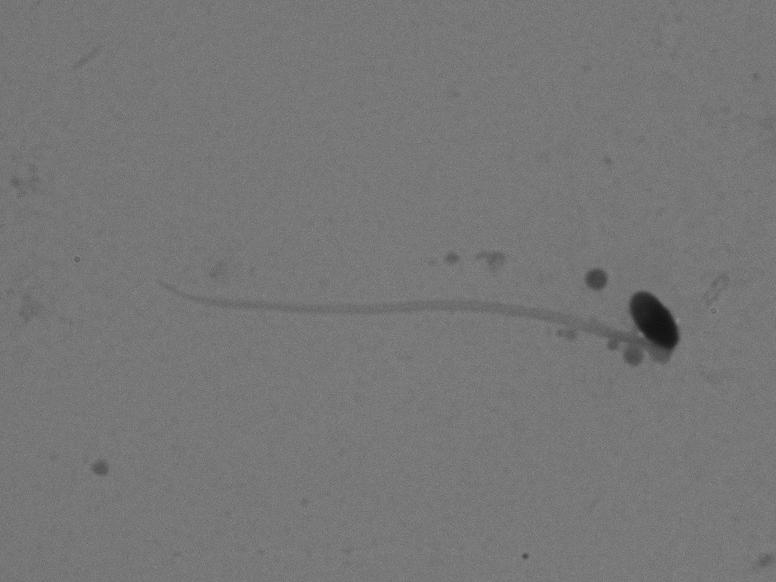Abnormal: (131, 231, 701, 386)
